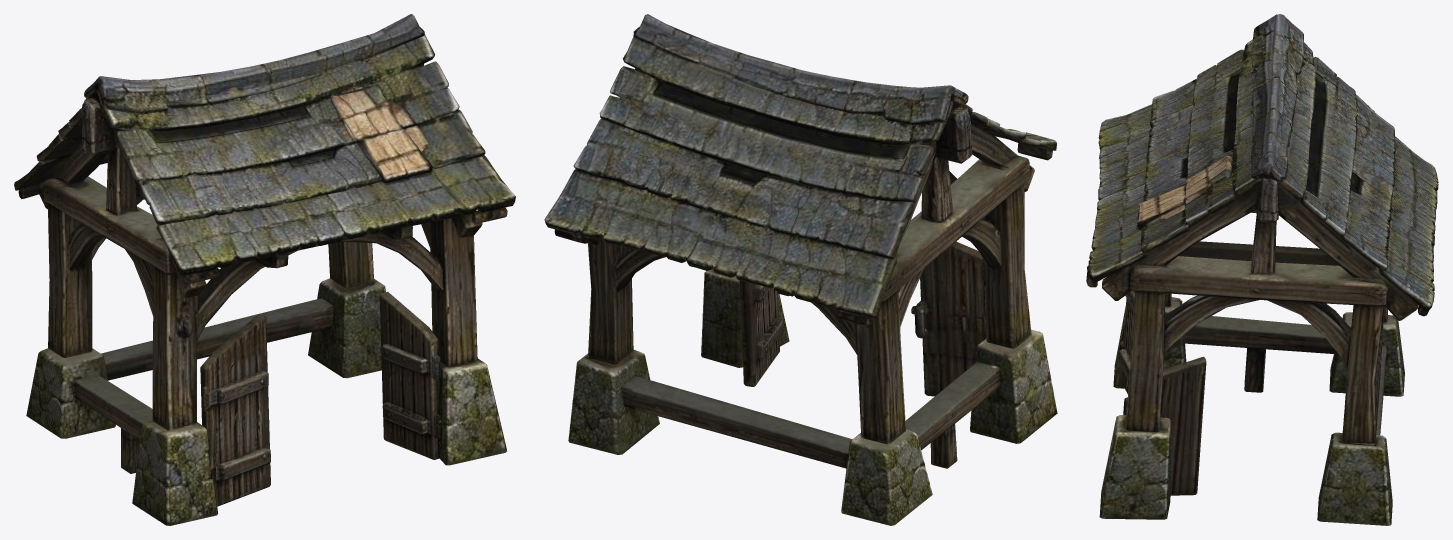
Rendered from act1-a02-1-lychgate.glb.
3 renders of one model, left to right at view 1: azimuth 30°, elevation 25°; view 2: azimuth 150°, elevation 25°; view 3: azimuth 270°, elevation 25°, orthographic. The views are drawn at different scales.
Parts seen in each view (by area): view 1: act1-a02-1-lychgate; view 2: act1-a02-1-lychgate; view 3: act1-a02-1-lychgate.
Part boxes in pixels (x1=…): act1-a02-1-lychgate: x1=14, y1=14, x2=515, y2=525; act1-a02-1-lychgate: x1=544, y1=14, x2=1057, y2=525; act1-a02-1-lychgate: x1=1086, y1=14, x2=1438, y2=525.
Bounding box in the file's own units: 3.51 × 3.8 × 3.3.
Materials: 1 (1 with a texture image).
